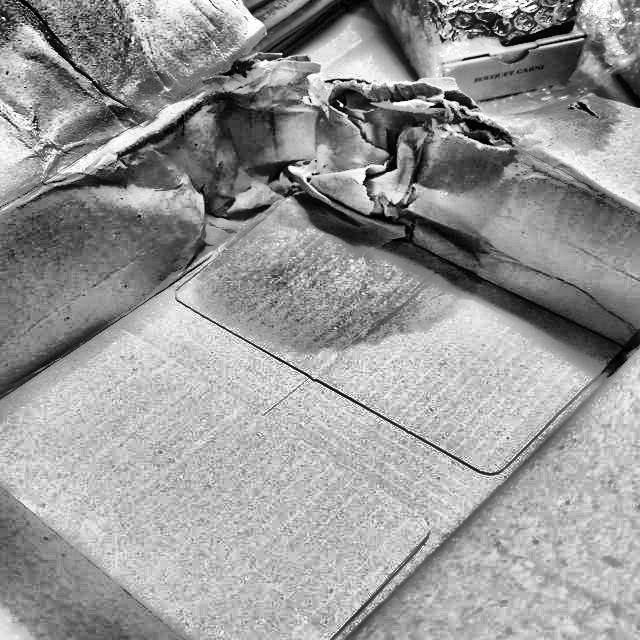box: (0, 0, 639, 639)
wet: (166, 89, 504, 355)
